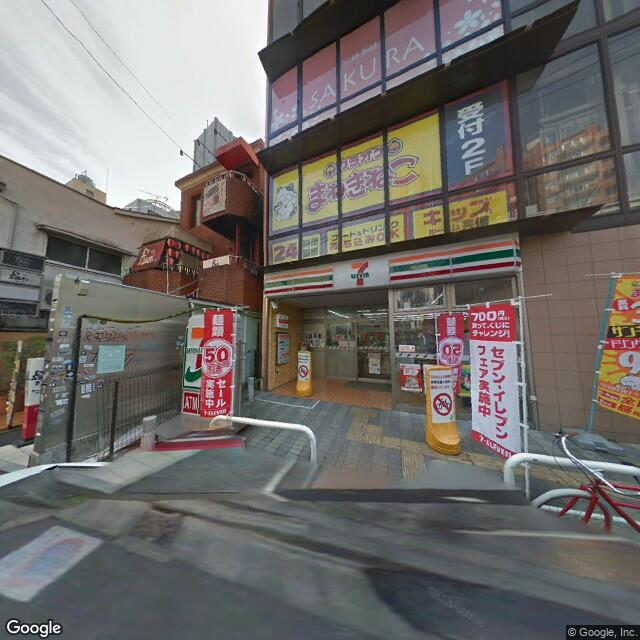7-eleven: (264, 232, 524, 305), (183, 316, 206, 387)
